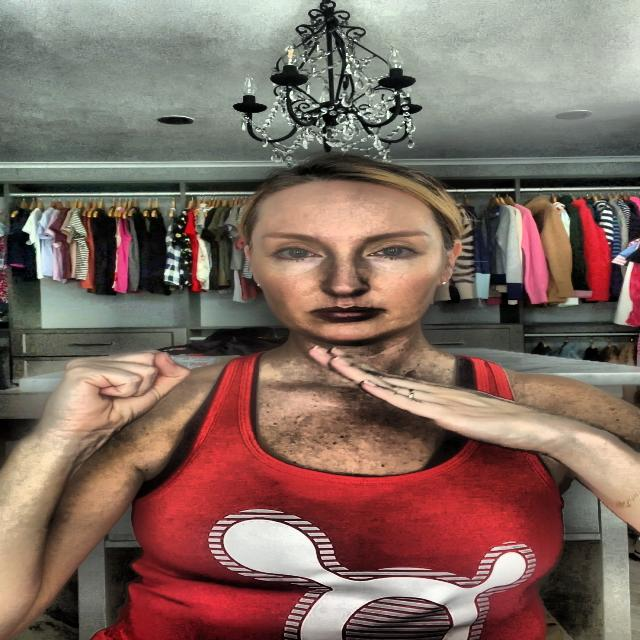not-gloved: (308, 344, 555, 460), (51, 350, 182, 442)
